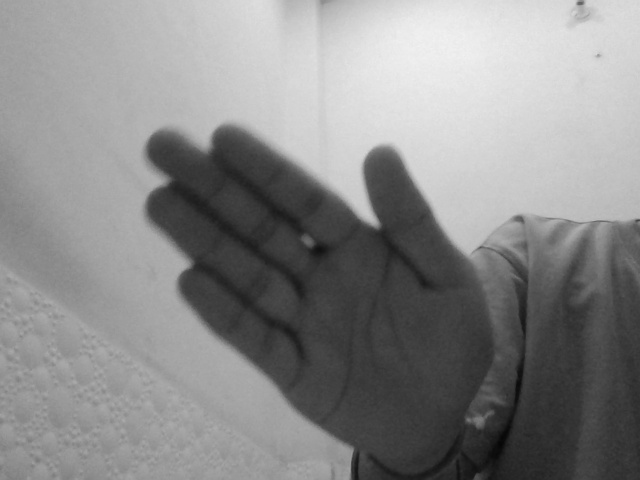Hello: (139, 120, 502, 452)
